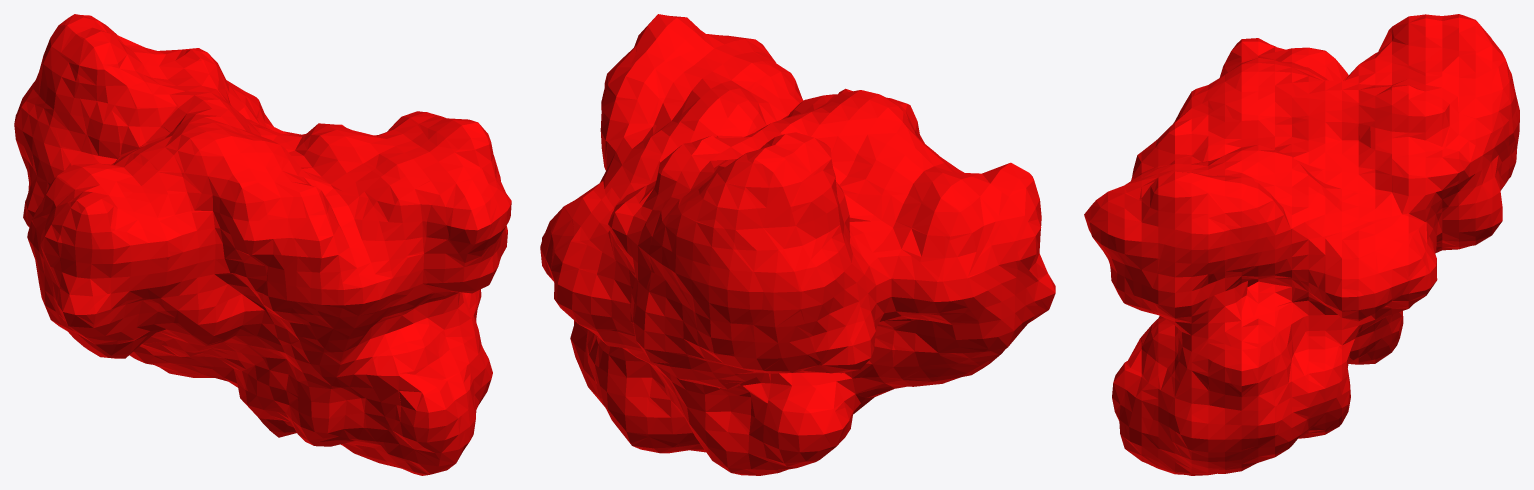
Rendered from lpdA_coarse.dae.
The picture shows the model from 3 angles, left to right: view 1: azimuth 30°, elevation 25°; view 2: azimuth 150°, elevation 25°; view 3: azimuth 270°, elevation 25°; orthographic projection. The views are drawn at different scales.
Parts seen in each view (by area): view 1: lpdA; view 2: lpdA; view 3: lpdA.
Boxes of the visible parts, x1,y1,x2,y2 form: lpdA: (14, 14, 511, 475); lpdA: (540, 14, 1055, 475); lpdA: (1084, 14, 1519, 475).
Bounding box in the file's own units: 88.94 × 80.05 × 85.25.
